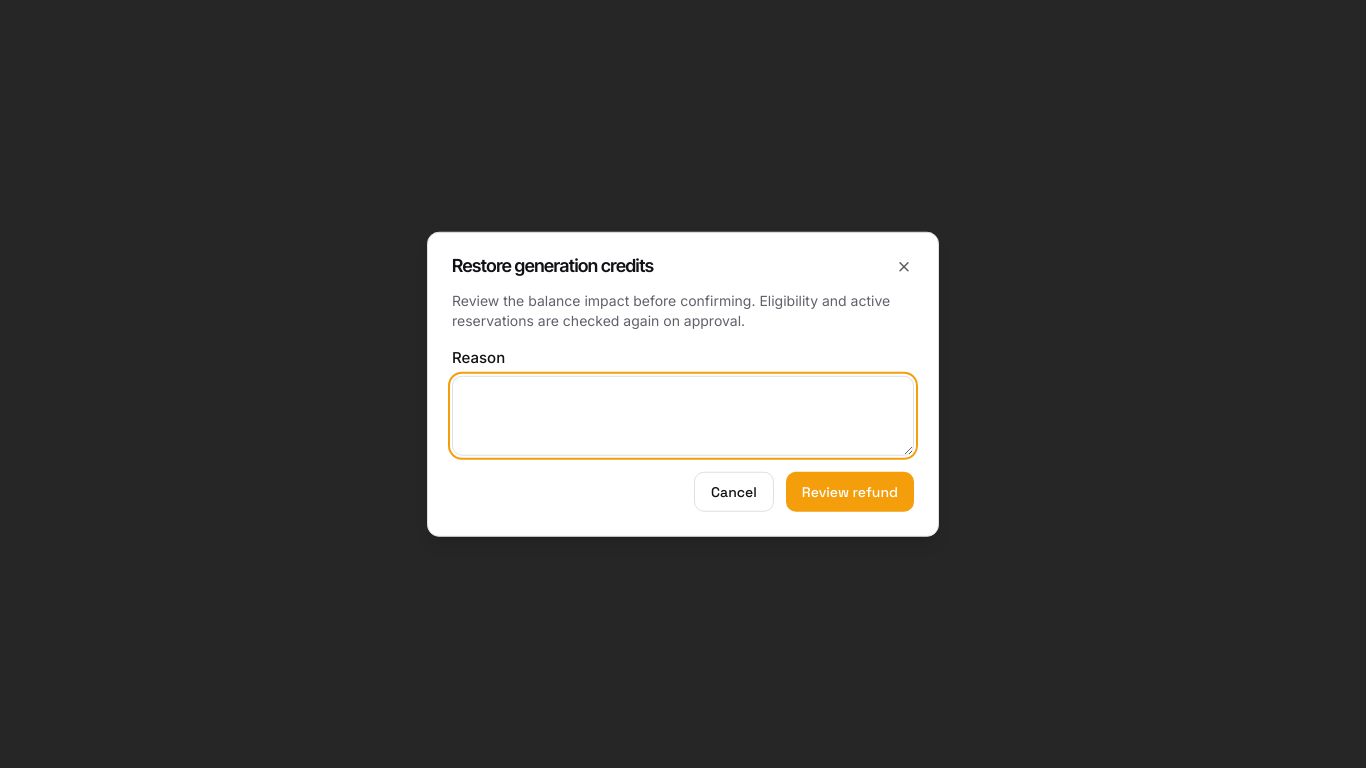
Test: source-linked refund review › confirms the password and reuses the same approval after an uncertain response
Type "Local test restoration review" into the text box labelled "Reason". click: (683, 415)
box: [452, 375, 914, 455]
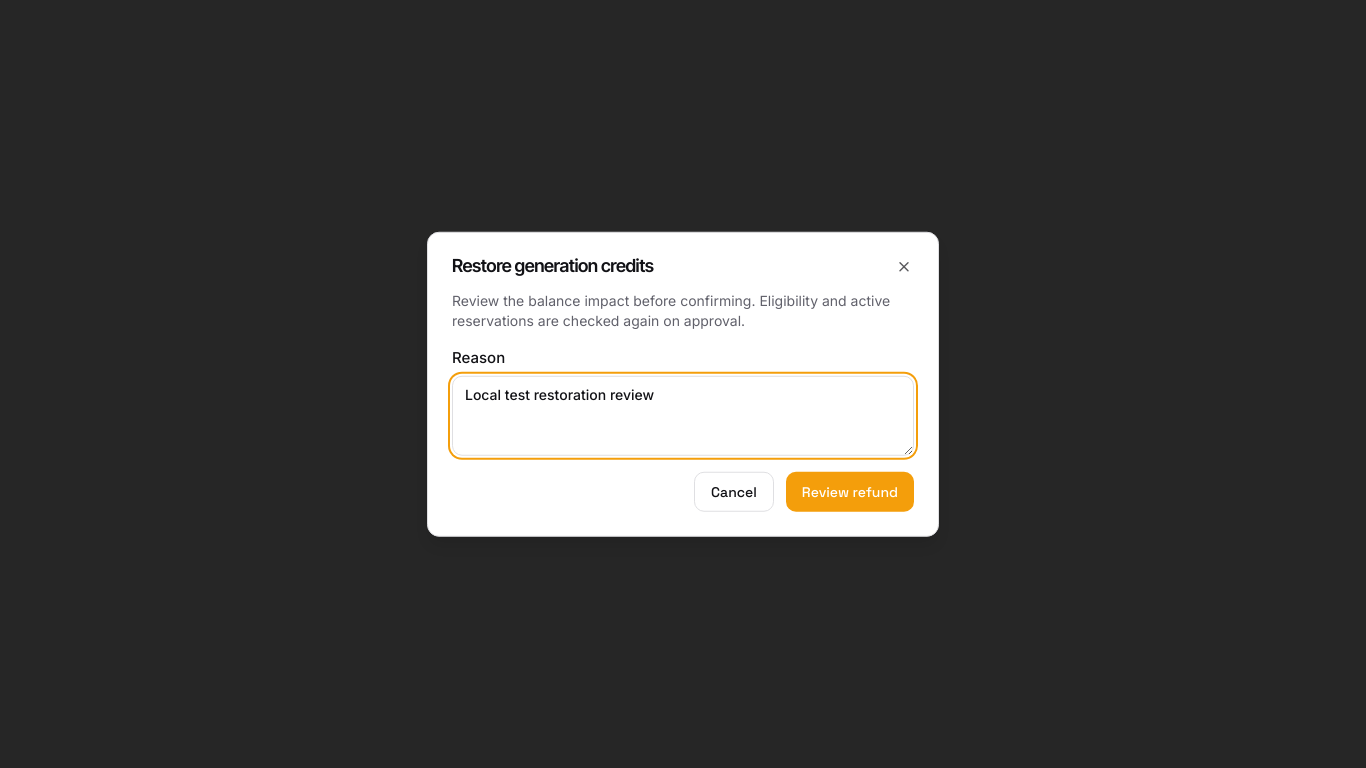
Click the button "Review refund". click: click(850, 491)
box: [786, 471, 914, 511]
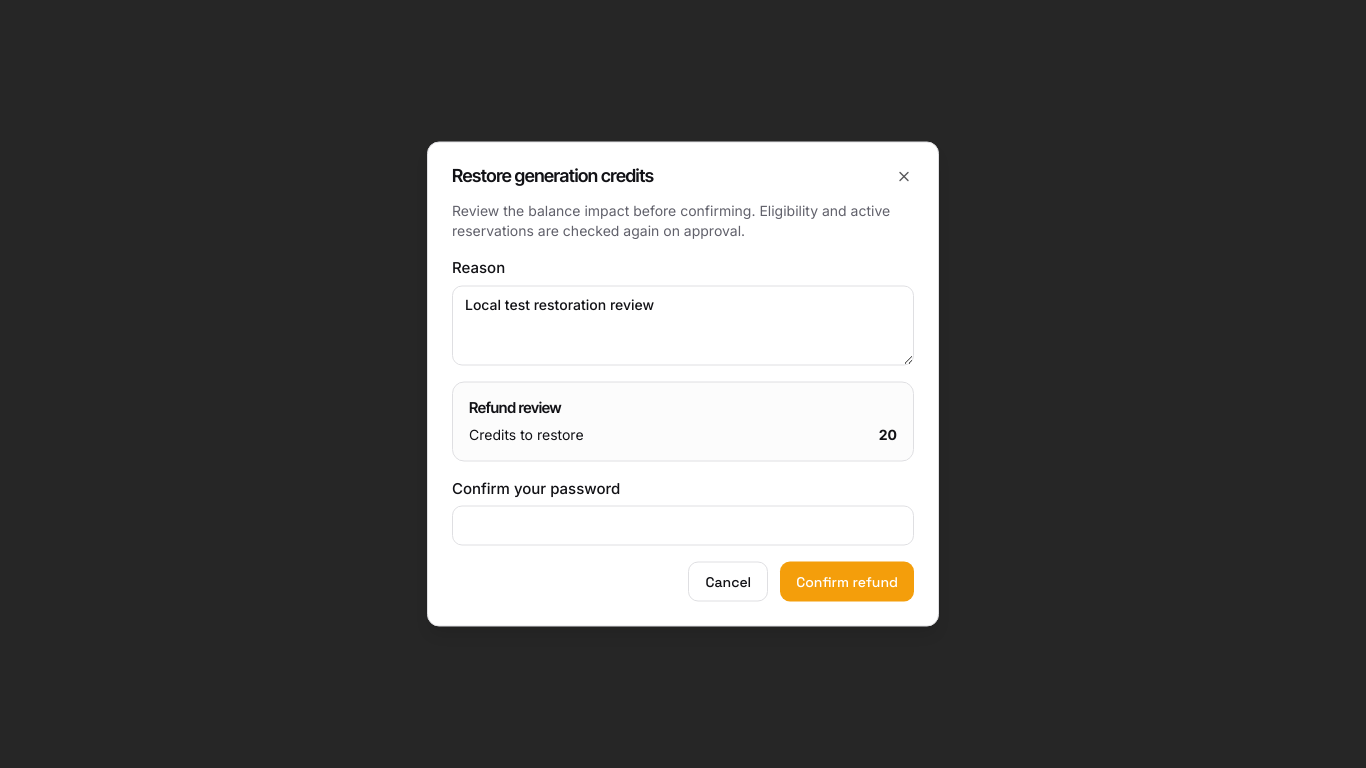
Check: the password field labelled "Confirm your password" is shown
Type "synthetic-password" into the password field labelled "Confirm your password". click: (683, 526)
box: [452, 506, 914, 546]
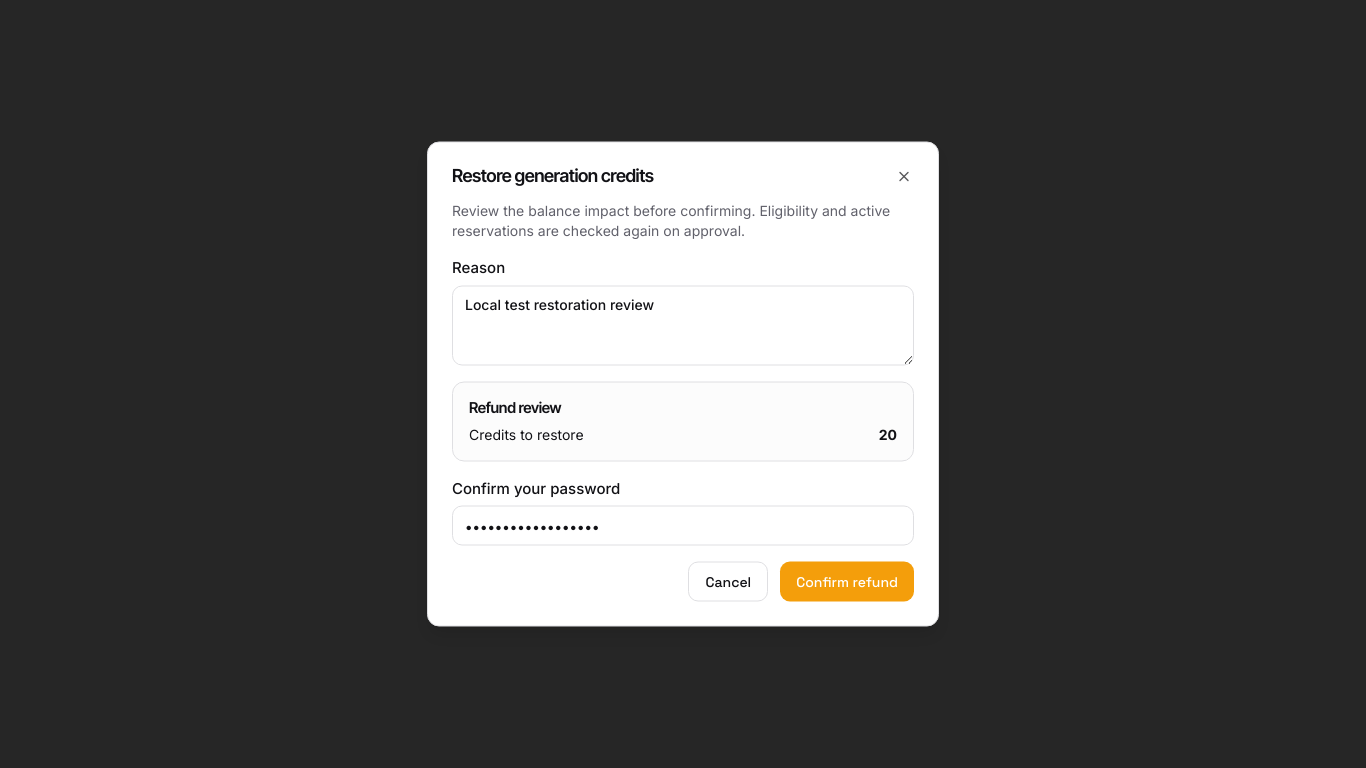
Click the button "Confirm refund". click: click(847, 582)
box: [780, 562, 914, 602]
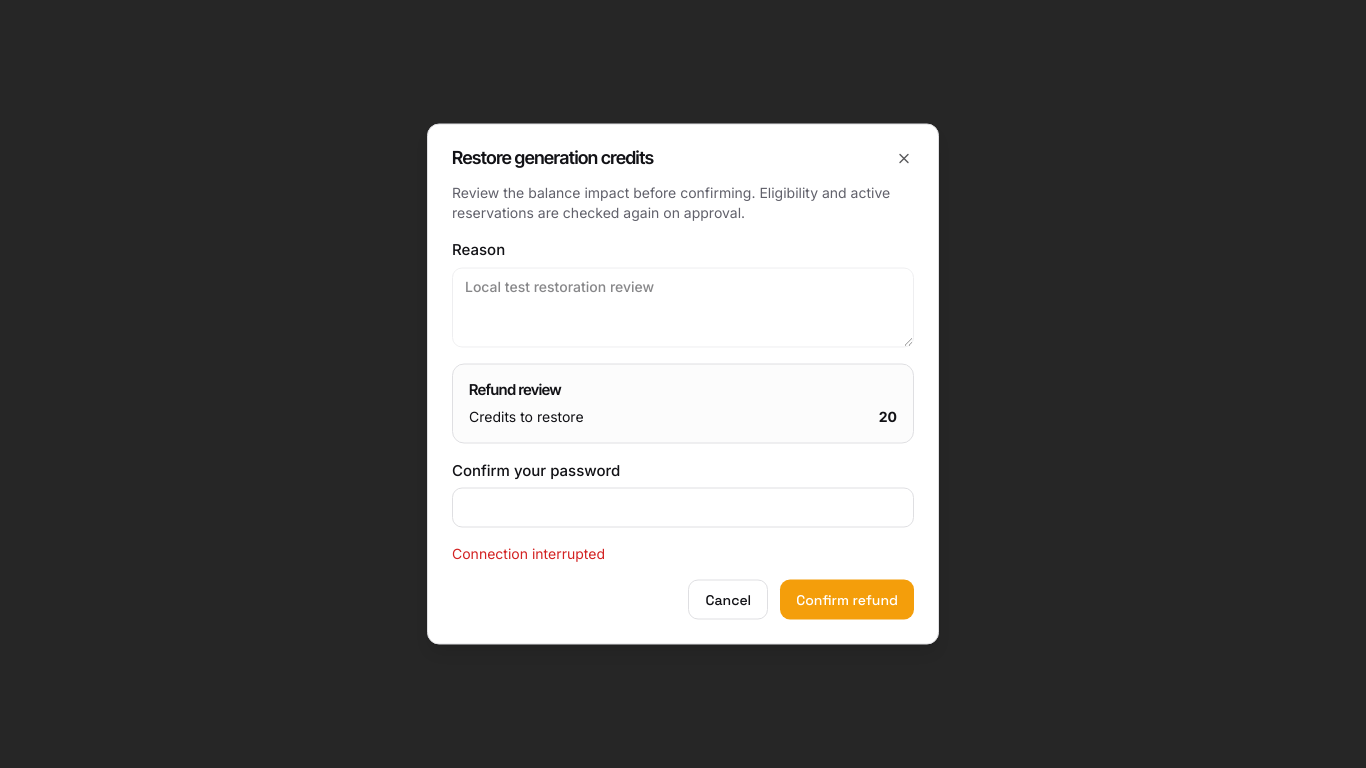
Check: the text "Connection interrupted" is shown, box [452, 544, 605, 562]
Type "synthetic-password" into the password field labelled "Confirm your password". click: (683, 508)
box: [452, 488, 914, 528]
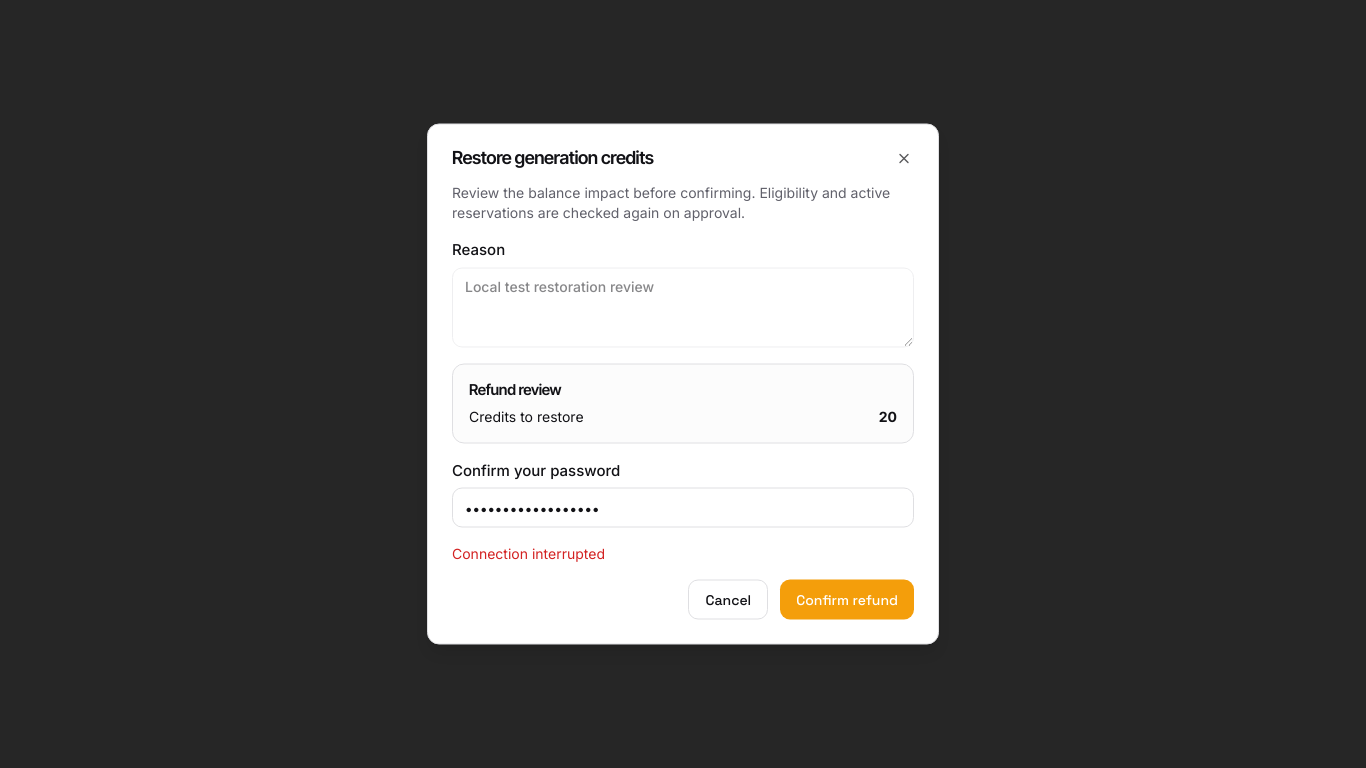
Click the button "Confirm refund". click: click(847, 600)
box: [780, 580, 914, 620]
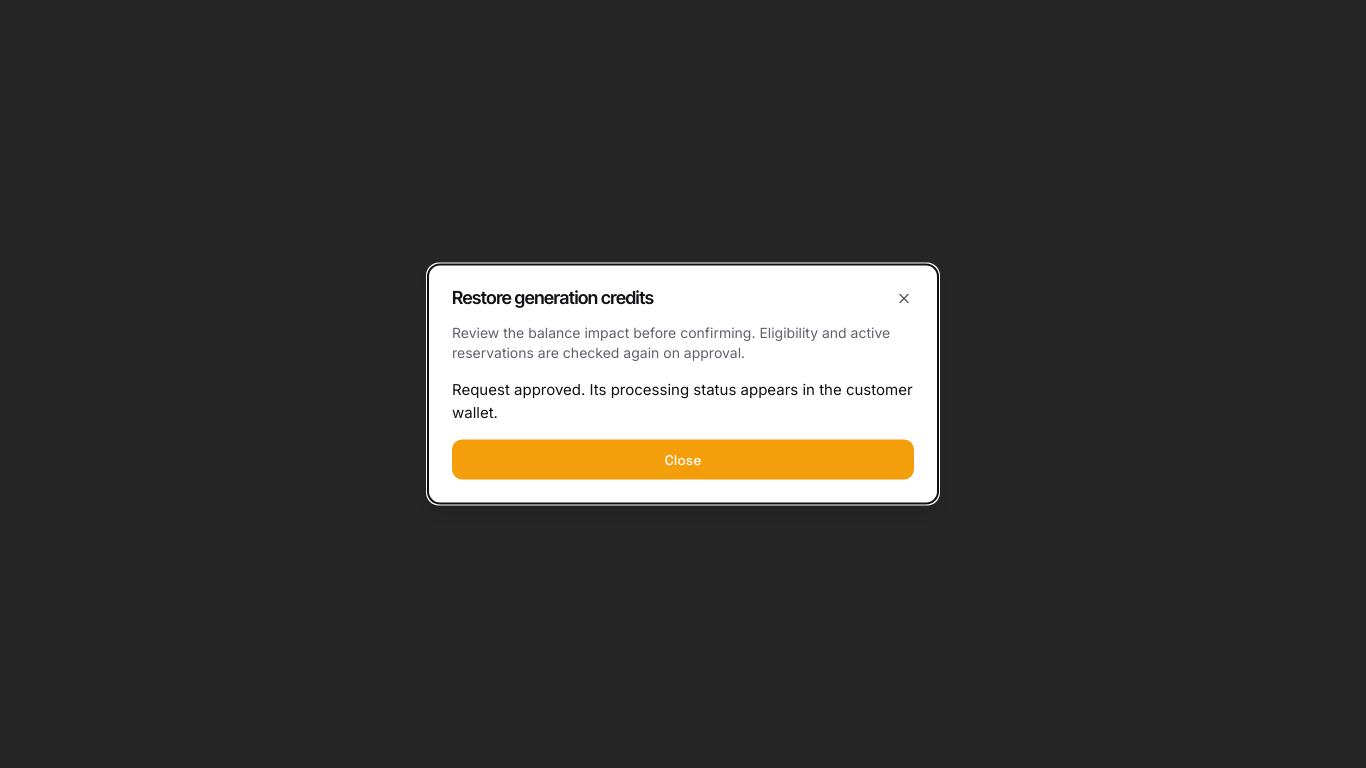
Check: the message shows "Request approved", box [452, 380, 912, 421]
